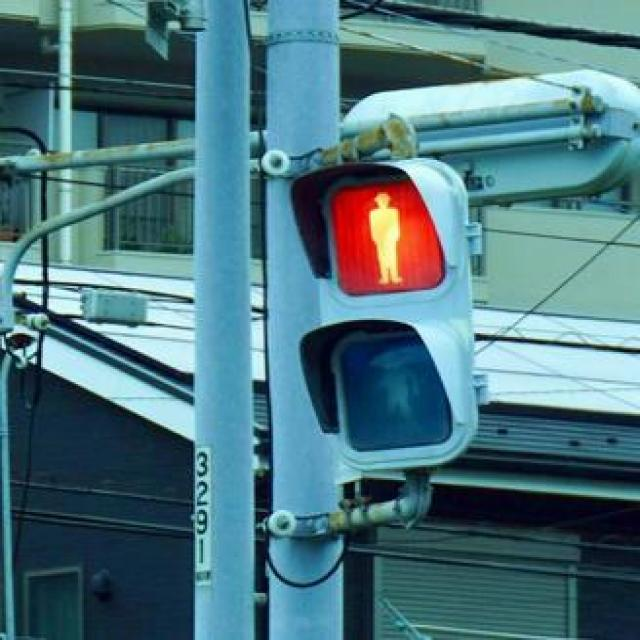Not go: (291, 146, 484, 480), (286, 161, 469, 317)
